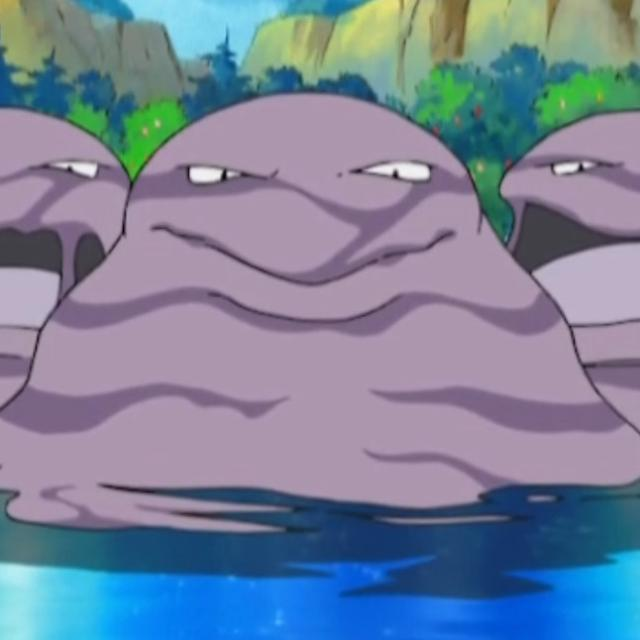Muk: (97, 98, 517, 513)
